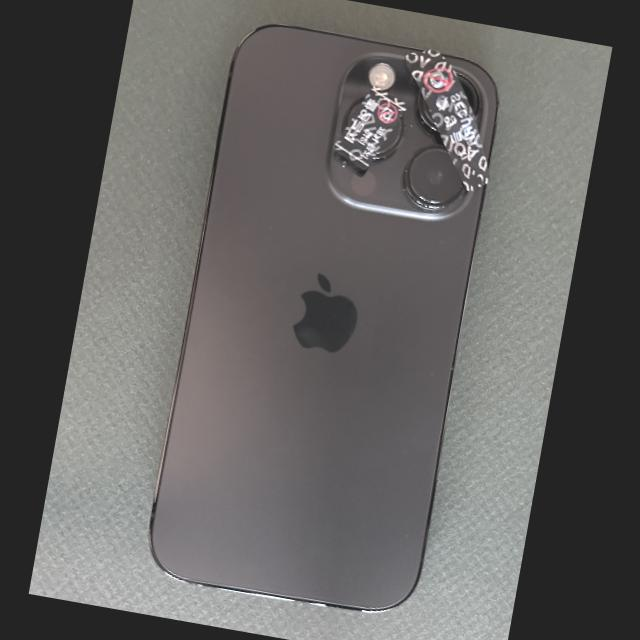lens: (404, 146, 463, 208), (373, 116, 405, 159), (455, 73, 478, 118)
phone: (147, 24, 498, 613)
sticker: (403, 48, 490, 192), (332, 85, 406, 170)
